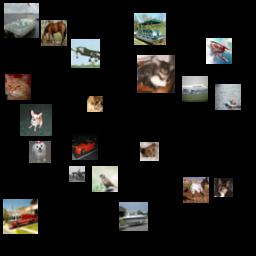airplane: (71, 39, 100, 68), (206, 38, 232, 64), (182, 76, 208, 102), (69, 166, 85, 182)
automobile: (72, 134, 98, 160)
bird: (92, 166, 118, 192)
cat: (137, 55, 175, 93), (5, 74, 31, 100), (140, 142, 159, 161), (87, 96, 103, 112)
dog: (20, 104, 52, 136), (29, 141, 51, 163), (214, 178, 233, 197)
ship: (4, 3, 39, 38), (134, 13, 166, 45), (119, 202, 148, 231), (215, 84, 241, 110)
truck: (3, 199, 38, 234)
